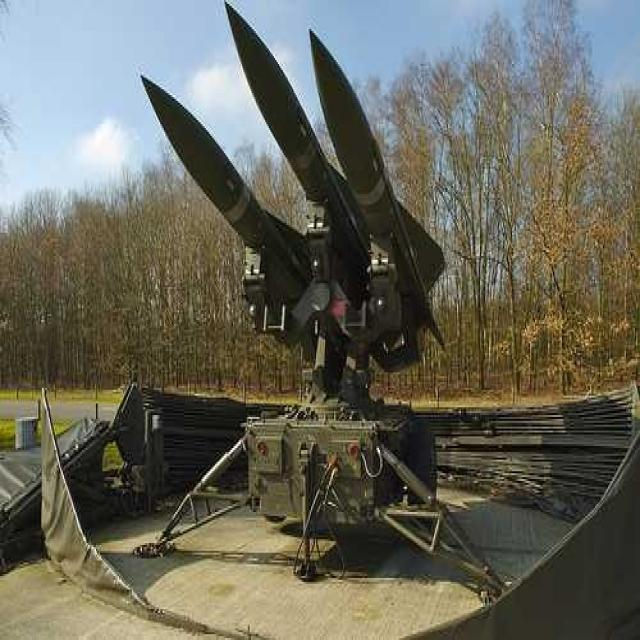missile: (140, 70, 322, 333), (307, 27, 448, 336), (222, 4, 375, 272)
